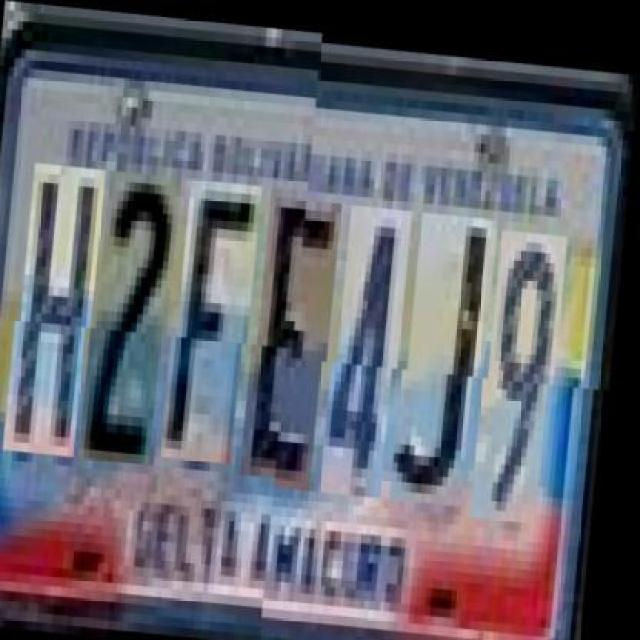2: (91, 177, 184, 471)
4: (333, 197, 416, 489)
9: (484, 218, 571, 512)
e: (253, 190, 345, 484)
f: (173, 184, 265, 468)
h: (16, 170, 109, 464)
j: (404, 202, 501, 496)
